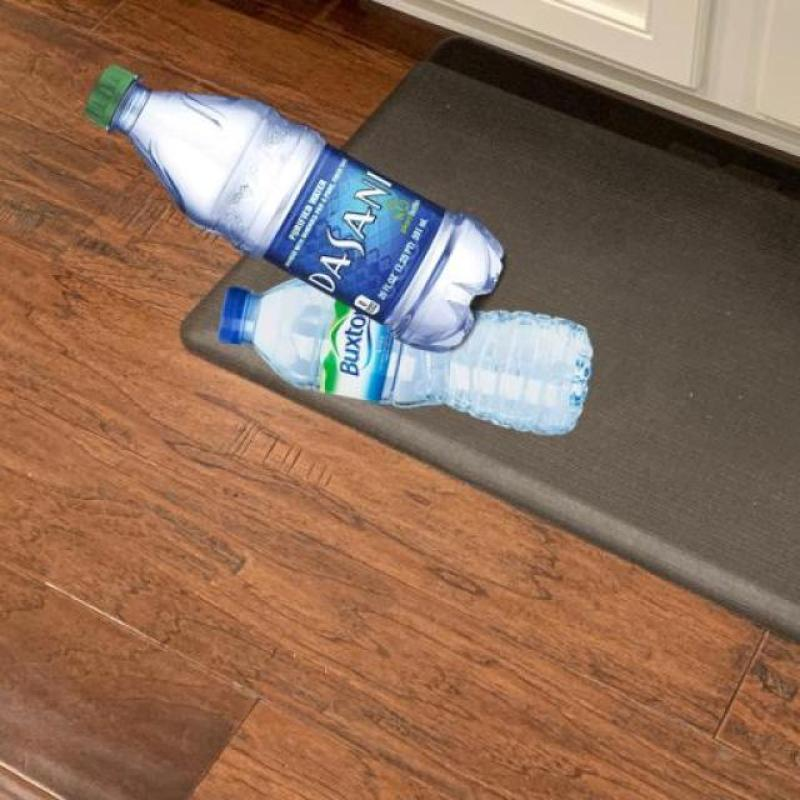botella: (89, 61, 503, 354), (216, 276, 596, 436)
